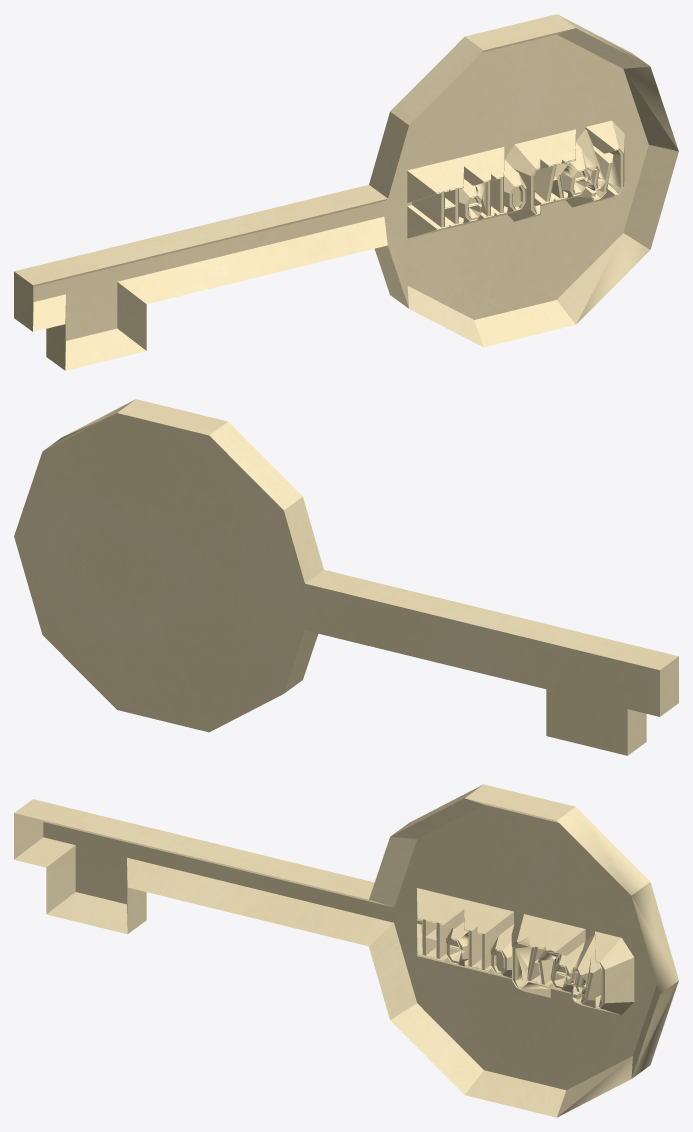
File: key_2.gltf
3 views of the same model, one above another, from view 1: azimuth 30°, elevation 25°; view 2: azimuth 150°, elevation 25°; view 3: azimuth 330°, elevation 25° (orthographic).
Parts seen in each view (by area): view 1: Mesh_0.005; view 2: Mesh_0.005; view 3: Mesh_0.005.
Part boxes in pixels (x1=…): Mesh_0.005: x1=14, y1=14, x2=678, y2=370; Mesh_0.005: x1=14, y1=399, x2=678, y2=755; Mesh_0.005: x1=14, y1=784, x2=678, y2=1117.
Size of the model in its own units: 0.2471 by 0.1085 by 0.0126.
1 material, 1 textured.
